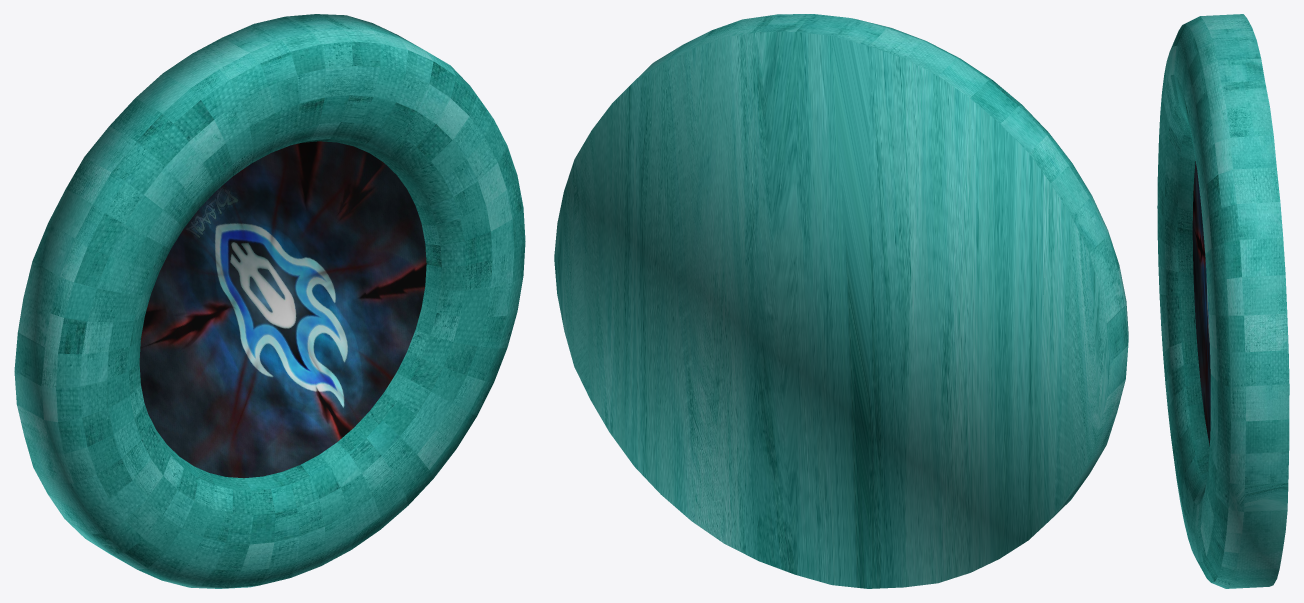
File: rondelleL3.obj
The picture shows the model from 3 angles, left to right: view 1: azimuth 30°, elevation 25°; view 2: azimuth 150°, elevation 25°; view 3: azimuth 270°, elevation 25°; orthographic projection. The views are drawn at different scales.
Parts seen in each view (by area): view 1: Torus; view 2: Torus; view 3: Torus.
Boxes of the visible parts, x1,y1,x2,y2 form: Torus: (14,14,525,588); Torus: (554,14,1128,588); Torus: (1157,14,1289,588).
Bounding box in the file's own units: 2.35 × 2.35 × 0.5397.
